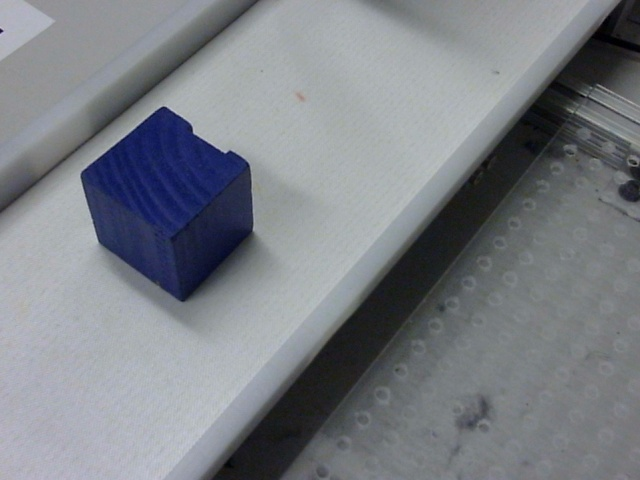BlueBlock: (79, 104, 254, 303)
